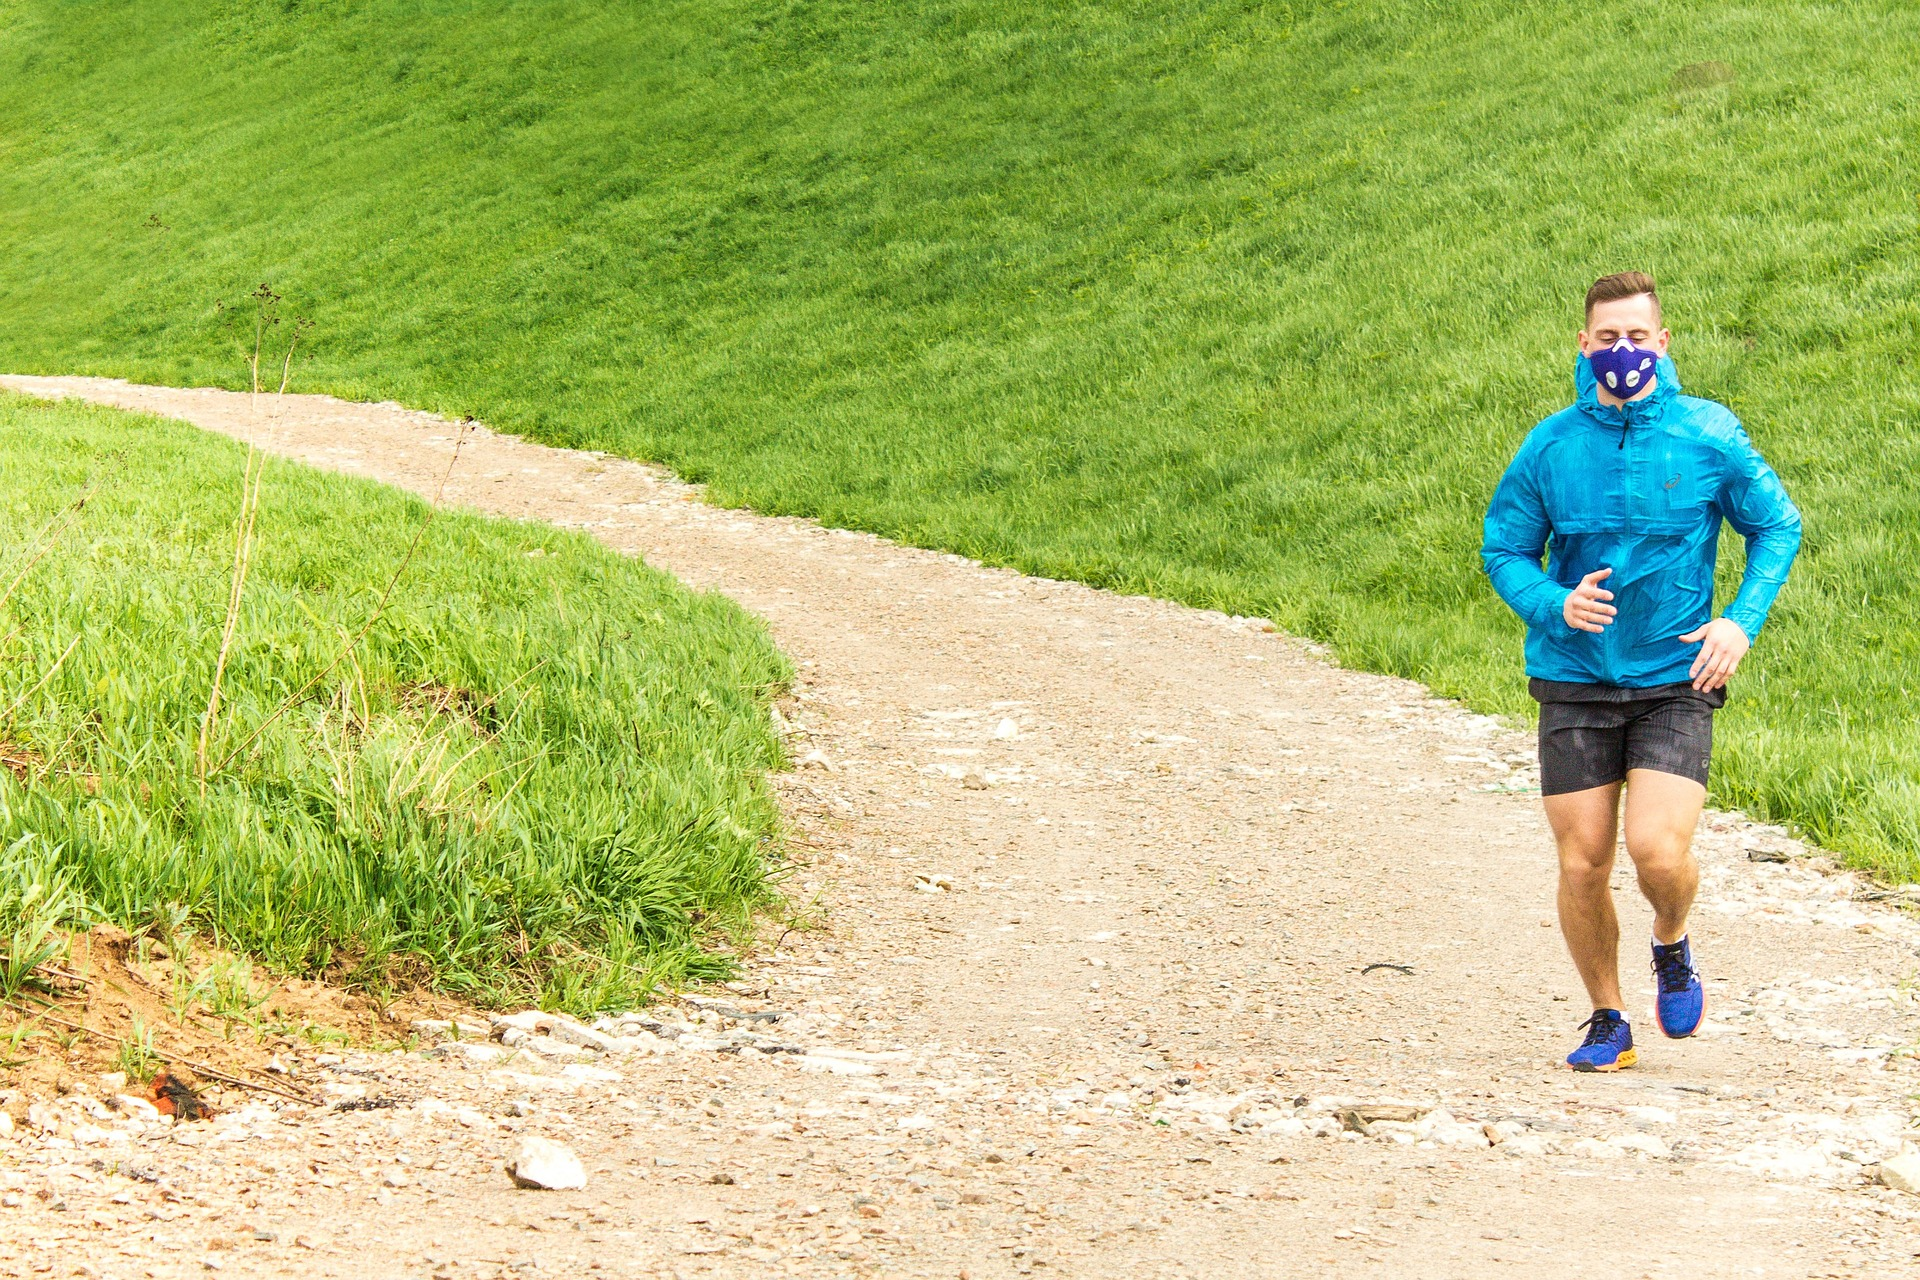with_mask: (1565, 283, 1671, 406)
